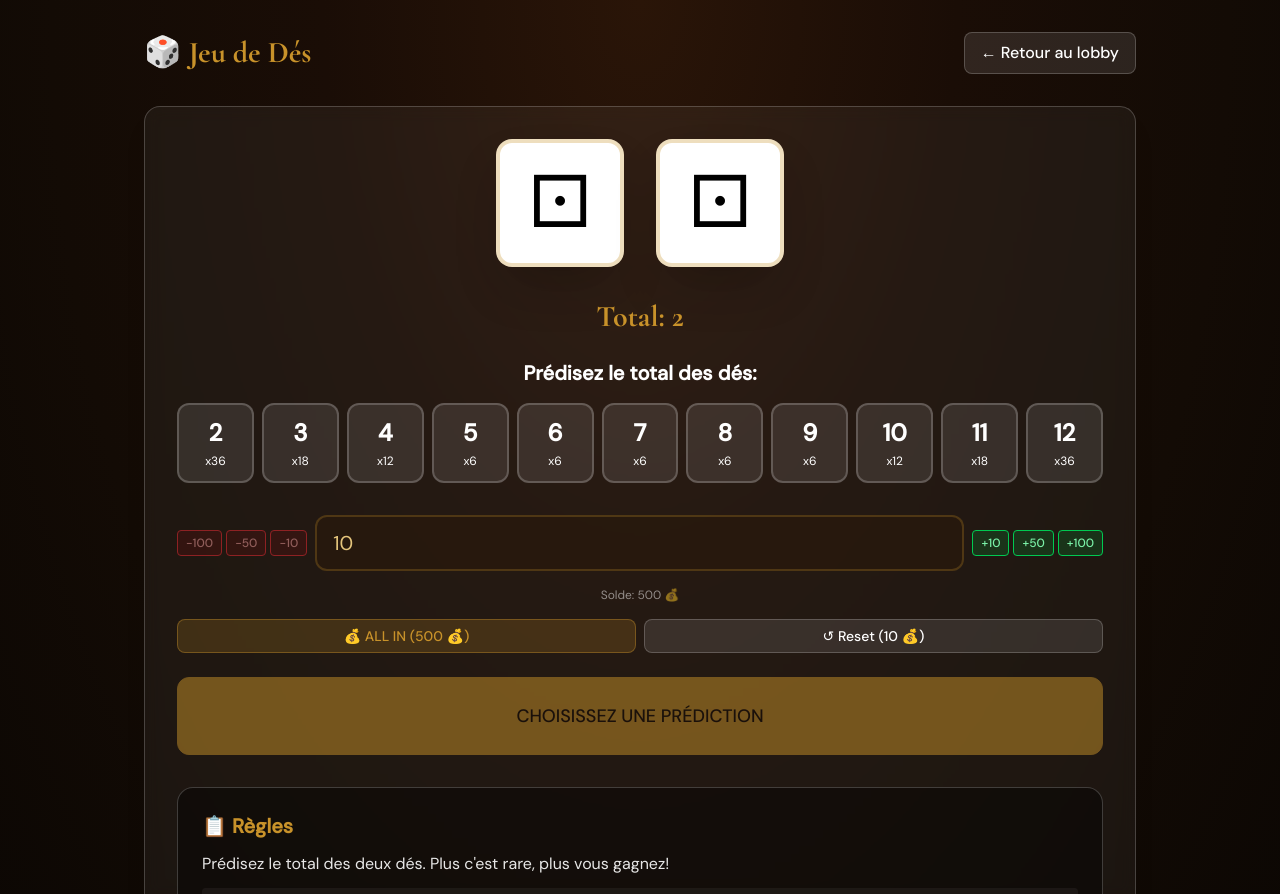
Test: DiceGame › reports a loss with the rolled total
Click the button "7 x6": [640, 443] box x1=602 y1=403 x2=678 y2=483
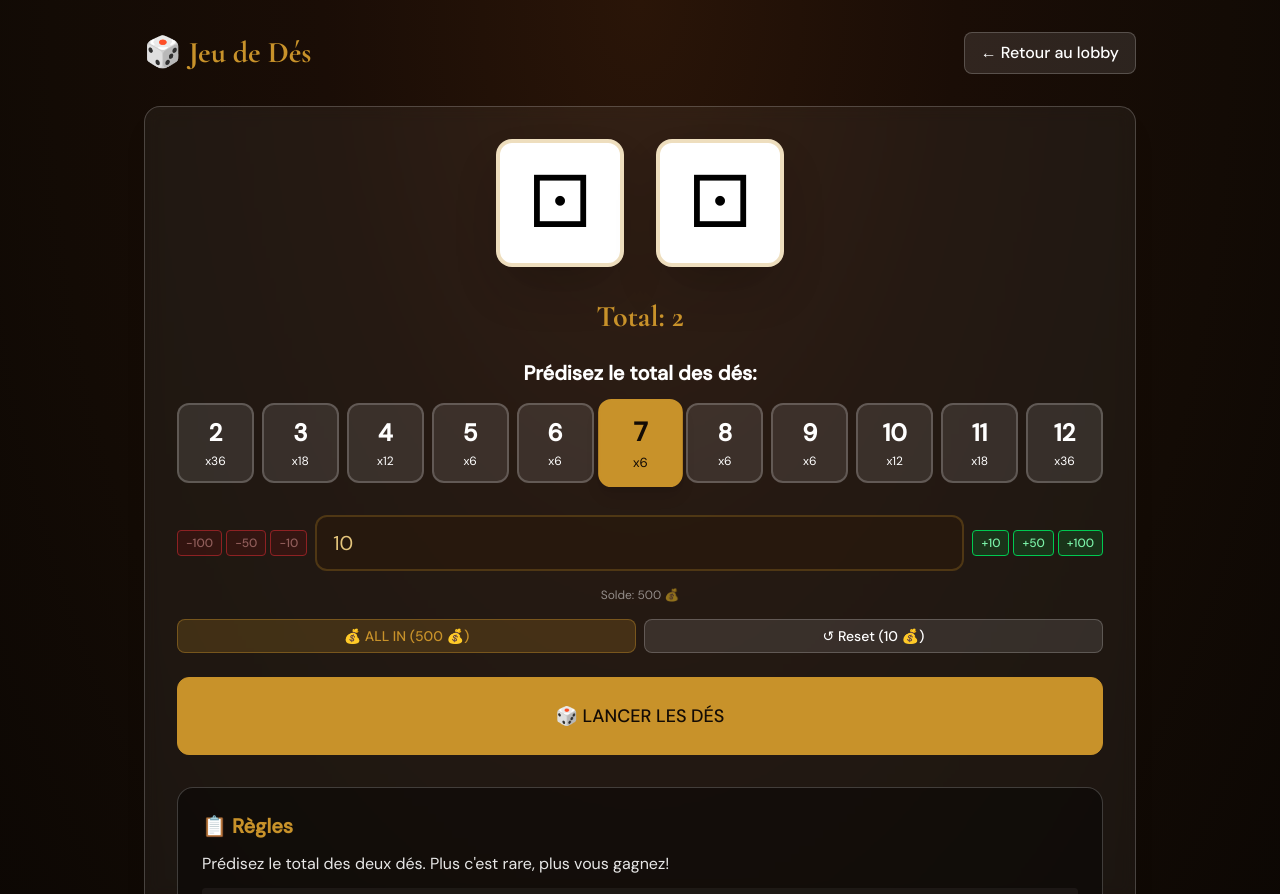
Click the button "🎲 LANCER LES DÉS": [640, 716] box x1=177 y1=677 x2=1103 y2=755
Wait 1100 ms
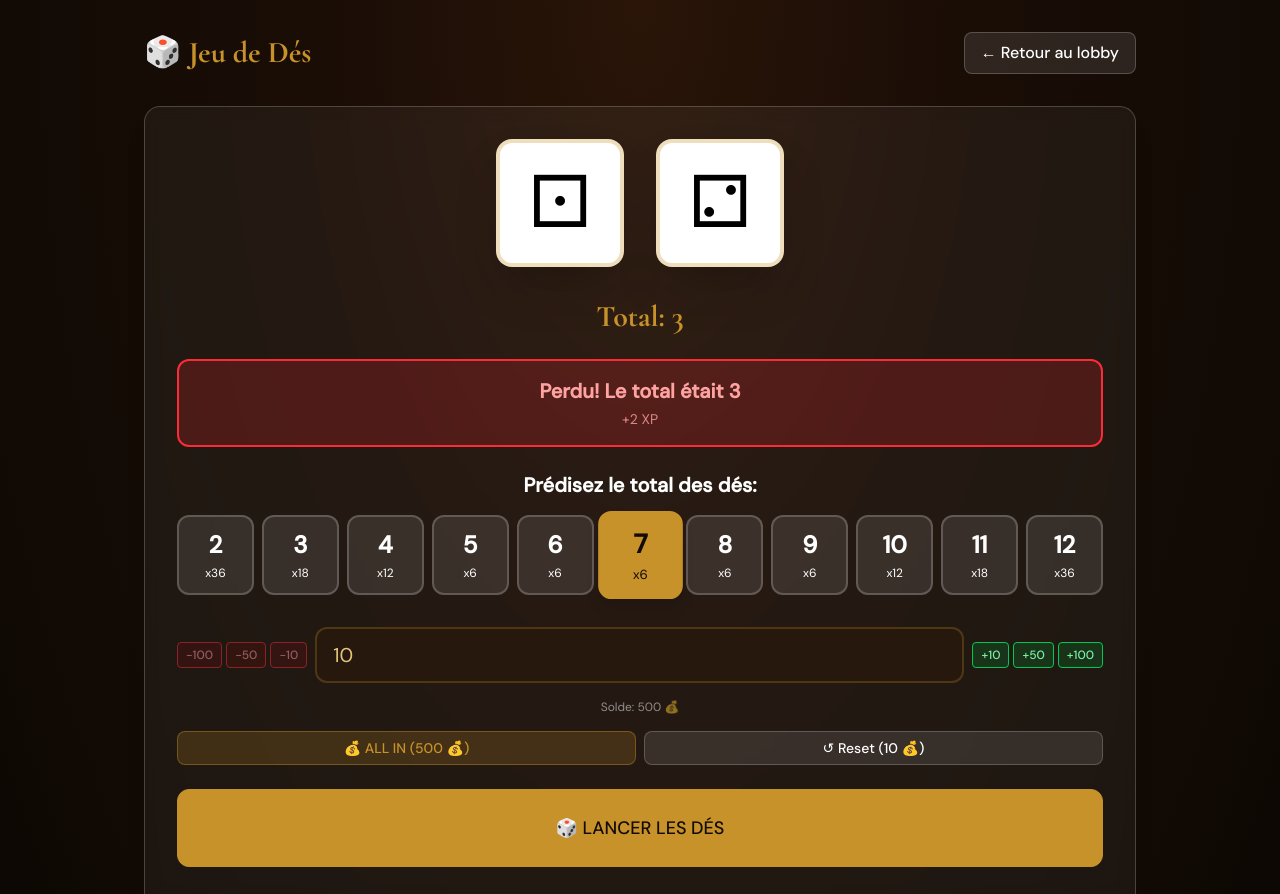
Expected: the text "3" is shown, x1=596 y1=298 x2=684 y2=335
Now the text "Perdu!" is shown, box x1=539 y1=378 x2=741 y2=404
